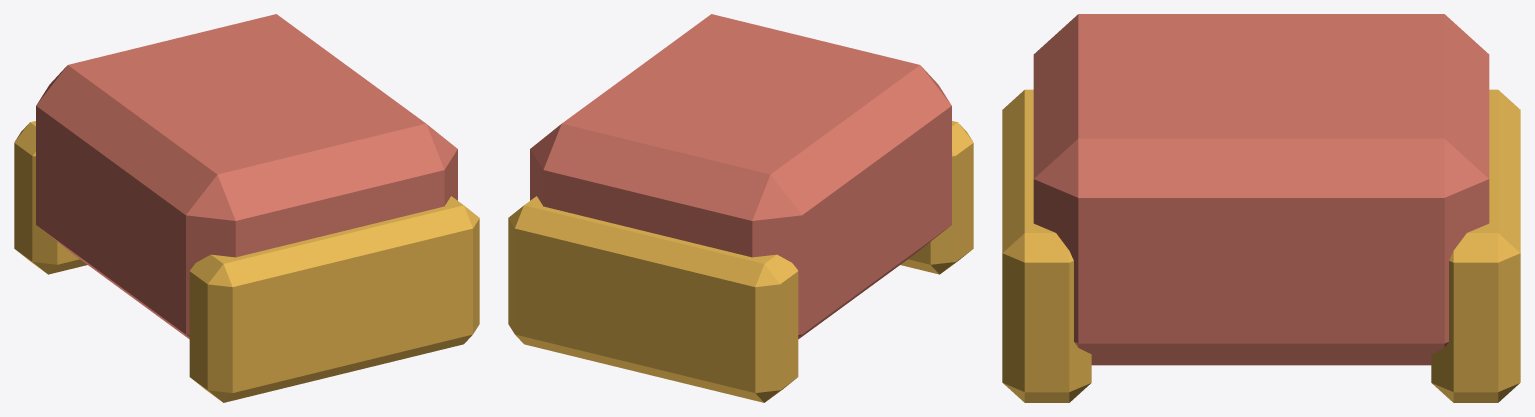
Rendered from SM_Pinball_Carriage.fbx.
3 views of the same model, side by side, from view 1: azimuth 30°, elevation 25°; view 2: azimuth 150°, elevation 25°; view 3: azimuth 270°, elevation 25° (orthographic). The views are drawn at different scales.
Visible parts, largest first — view 1: SM_Pinball_Carriage; view 2: SM_Pinball_Carriage; view 3: SM_Pinball_Carriage.
Part boxes in pixels (x1,y1,x2,y2): SM_Pinball_Carriage: (14, 14, 479, 402); SM_Pinball_Carriage: (508, 14, 973, 402); SM_Pinball_Carriage: (1002, 14, 1520, 402).
Bounding box in the file's own units: 43 × 58 × 31.5.
